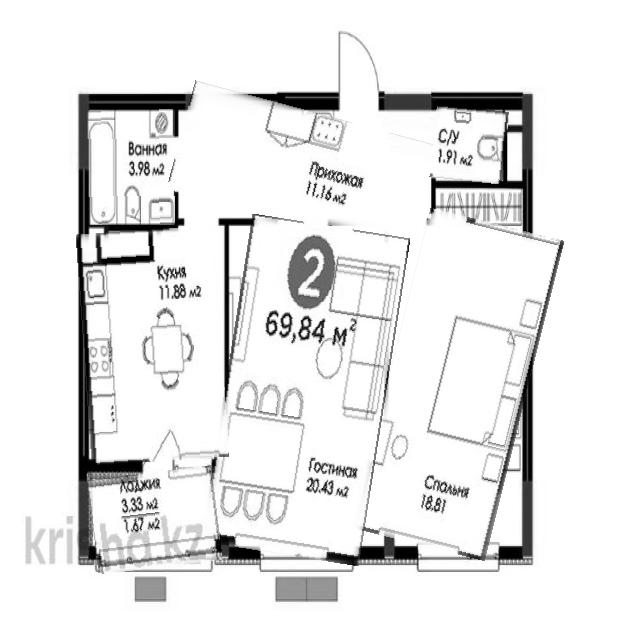balcony: (89, 468, 220, 570)
bathroom: (86, 110, 175, 225), (431, 106, 508, 183)
hallway: (172, 96, 432, 231)
kitchen: (80, 228, 226, 464)
living_room: (214, 219, 398, 561), (370, 214, 546, 556)
